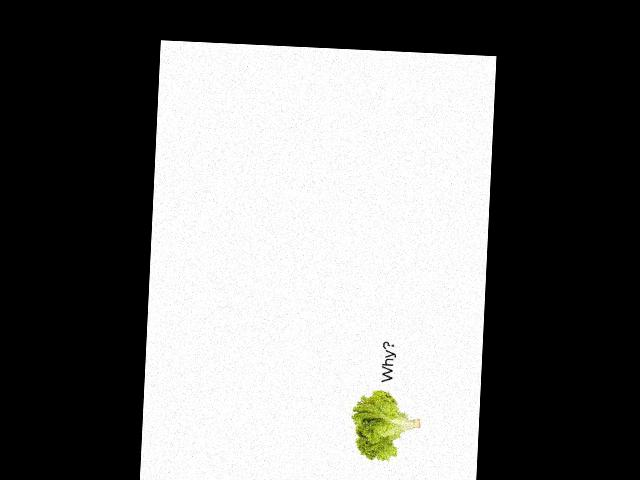lettuce: (343, 348, 429, 465)
